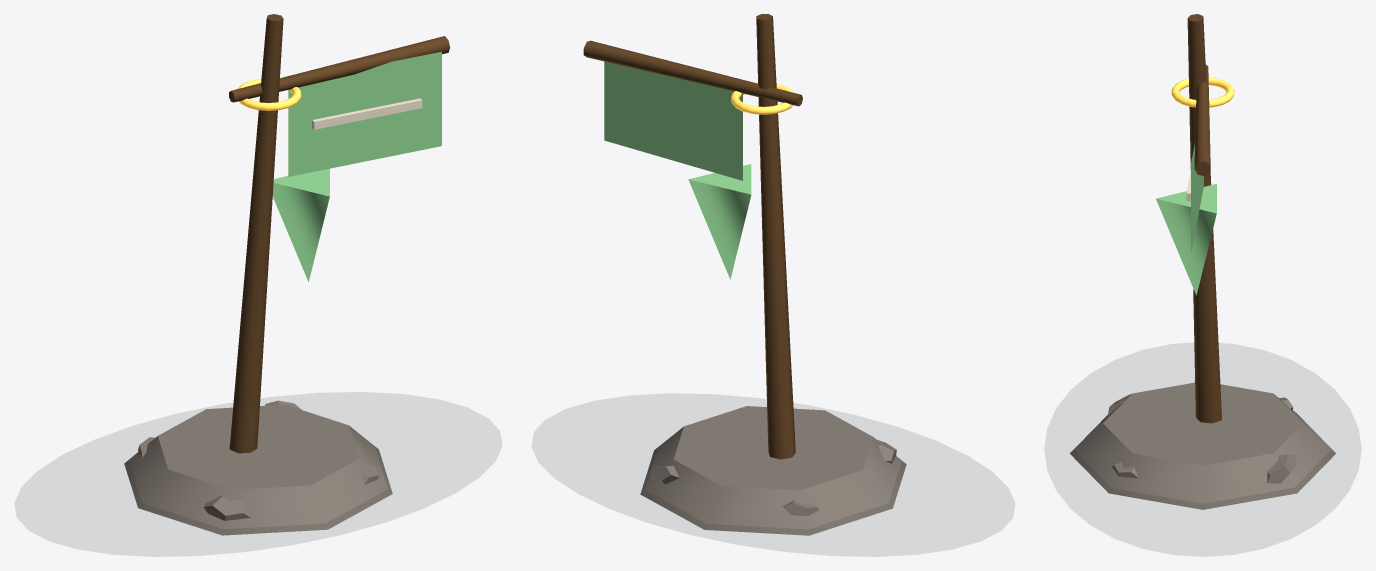
File: alliance_signal.glb
The picture shows the model from 3 angles, left to right: view 1: azimuth 30°, elevation 25°; view 2: azimuth 150°, elevation 25°; view 3: azimuth 270°, elevation 25°; orthographic projection. The views are drawn at different scales.
Visible parts, largest first — view 1: soft_ground_shadow, alliance_signal_stone_base, alliance_signal_main_flag, alliance_signal_tall_pole, alliance_signal_lower_pennant, alliance_signal_crossbar, alliance_signal_stitch_line, alliance_signal_anchor_1, alliance_signal_knot_ring; view 2: soft_ground_shadow, alliance_signal_stone_base, alliance_signal_main_flag, alliance_signal_tall_pole, alliance_signal_lower_pennant, alliance_signal_crossbar, alliance_signal_knot_ring; view 3: soft_ground_shadow, alliance_signal_stone_base, alliance_signal_tall_pole, alliance_signal_lower_pennant, alliance_signal_crossbar, alliance_signal_knot_ring, alliance_signal_main_flag, alliance_signal_anchor_3.
Part boxes in pixels (bbox=[...]): soft_ground_shadow: bbox=[15, 392, 501, 556]; alliance_signal_stone_base: bbox=[124, 404, 392, 535]; alliance_signal_main_flag: bbox=[288, 51, 441, 176]; alliance_signal_tall_pole: bbox=[229, 14, 283, 453]; alliance_signal_lower_pennant: bbox=[272, 168, 329, 281]; alliance_signal_crossbar: bbox=[229, 36, 450, 102]; alliance_signal_stitch_line: bbox=[312, 98, 422, 129]; alliance_signal_anchor_1: bbox=[204, 495, 250, 520]; alliance_signal_knot_ring: bbox=[238, 79, 301, 110]; soft_ground_shadow: bbox=[532, 394, 1014, 556]; alliance_signal_stone_base: bbox=[640, 406, 906, 535]; alliance_signal_main_flag: bbox=[604, 61, 742, 180]; alliance_signal_tall_pole: bbox=[756, 14, 795, 459]; alliance_signal_lower_pennant: bbox=[688, 164, 751, 279]; alliance_signal_crossbar: bbox=[583, 40, 802, 106]; alliance_signal_knot_ring: bbox=[731, 83, 793, 114]; soft_ground_shadow: bbox=[1045, 343, 1360, 556]; alliance_signal_stone_base: bbox=[1070, 382, 1335, 509]; alliance_signal_tall_pole: bbox=[1187, 14, 1221, 423]; alliance_signal_lower_pennant: bbox=[1156, 183, 1216, 295]; alliance_signal_crossbar: bbox=[1194, 64, 1210, 176]; alliance_signal_knot_ring: bbox=[1171, 77, 1234, 107]; alliance_signal_main_flag: bbox=[1191, 143, 1203, 252]; alliance_signal_anchor_3: bbox=[1267, 454, 1296, 483].
Size of the model in its own units: 2.75 by 2.65 by 1.72.
